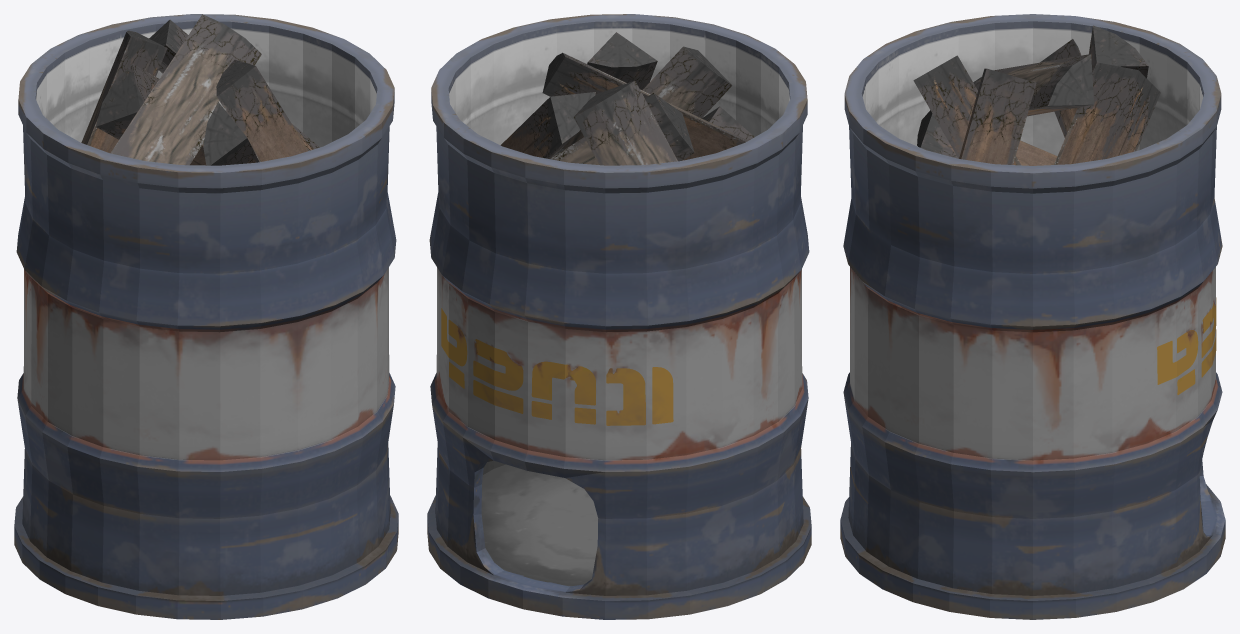
The model's file is P_OilBarrel_003_S1_M04.obj.
3 views of the same model, side by side, from view 1: azimuth 30°, elevation 25°; view 2: azimuth 150°, elevation 25°; view 3: azimuth 270°, elevation 25° (orthographic).
Bounding box in the file's own units: 0.7122 × 1.01 × 0.7122.
1 material, 1 textured.
